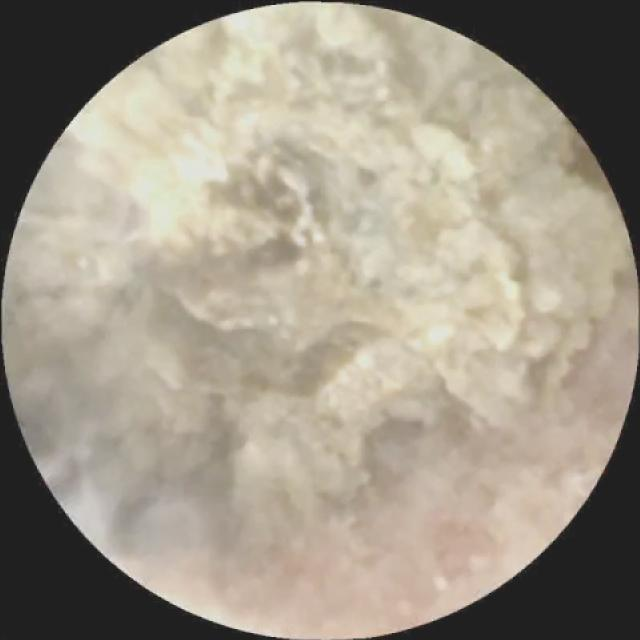stone: (15, 15, 624, 560)
